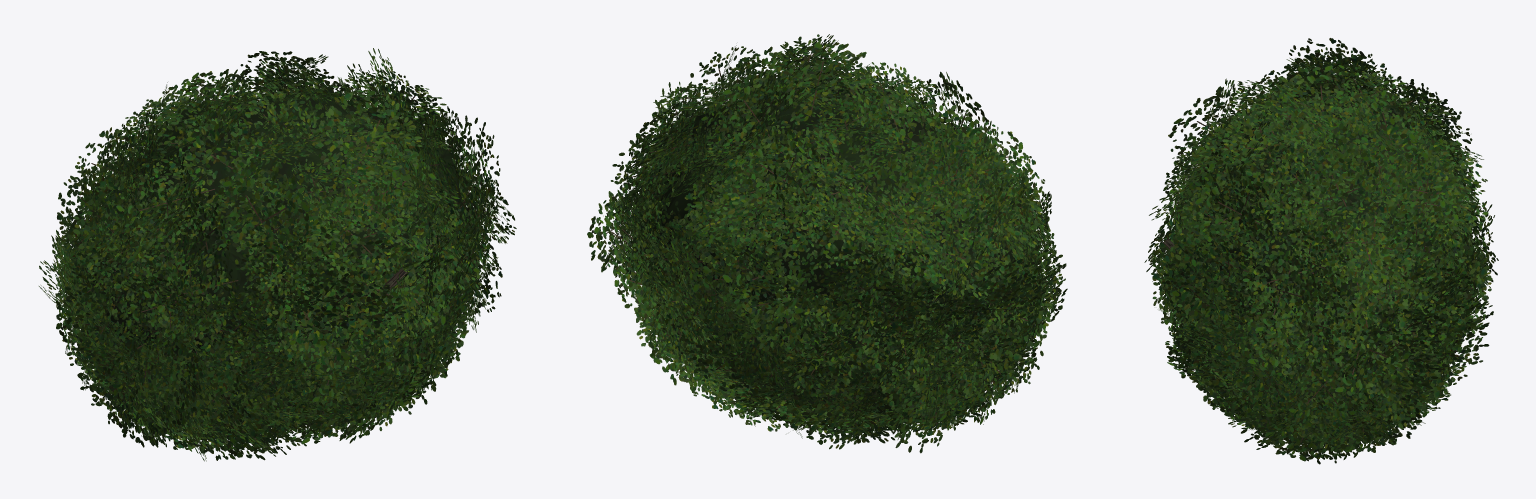
File: hedge_bush.glb
The picture shows the model from 3 angles, left to right: view 1: azimuth 30°, elevation 25°; view 2: azimuth 150°, elevation 25°; view 3: azimuth 270°, elevation 25°; orthographic projection. The views are drawn at different scales.
Parts seen in each view (by area): view 1: Hedge; view 2: Hedge; view 3: Hedge.
Boxes of the visible parts, x1=… form: Hedge: x1=39, y1=48, x2=516, y2=461; Hedge: x1=587, y1=34, x2=1067, y2=453; Hedge: x1=1144, y1=38, x2=1498, y2=464.
Size of the model in its own units: 2.97 by 2.57 by 2.35.
Materials: 3 (3 with a texture image).
